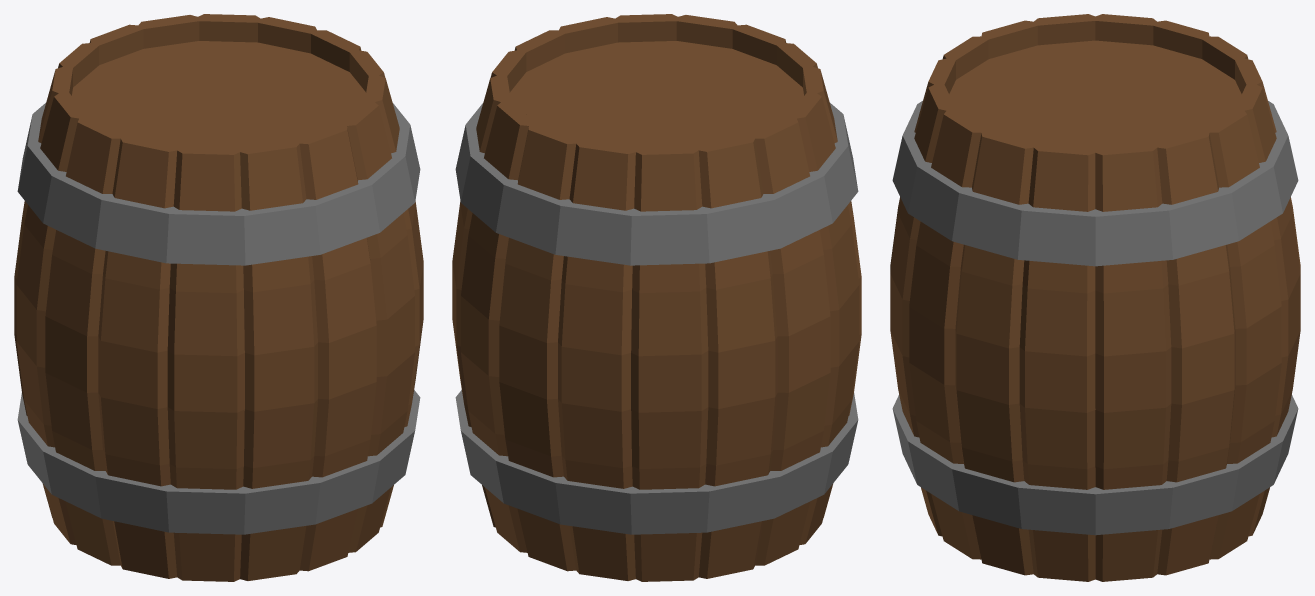
The model's file is barrel.fbx.
3 views of the same model, side by side, from view 1: azimuth 30°, elevation 25°; view 2: azimuth 150°, elevation 25°; view 3: azimuth 270°, elevation 25° (orthographic).
Visible parts, largest first — view 1: Cylinder, Cylinder.002; view 2: Cylinder, Cylinder.002; view 3: Cylinder, Cylinder.002.
Boxes of the visible parts, x1,y1,x2,y2 form: Cylinder: (14,14,423,581); Cylinder.002: (17,102,420,534); Cylinder: (452,14,861,581); Cylinder.002: (455,102,858,534); Cylinder: (890,14,1300,581); Cylinder.002: (892,101,1298,535).
Bounding box in the file's own units: 195 × 224 × 195.
